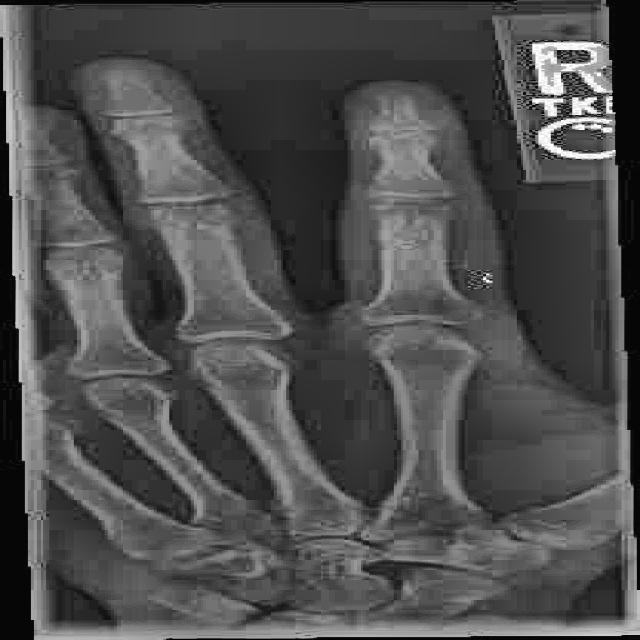fingers positive: (362, 196, 465, 258), (135, 198, 250, 239)
